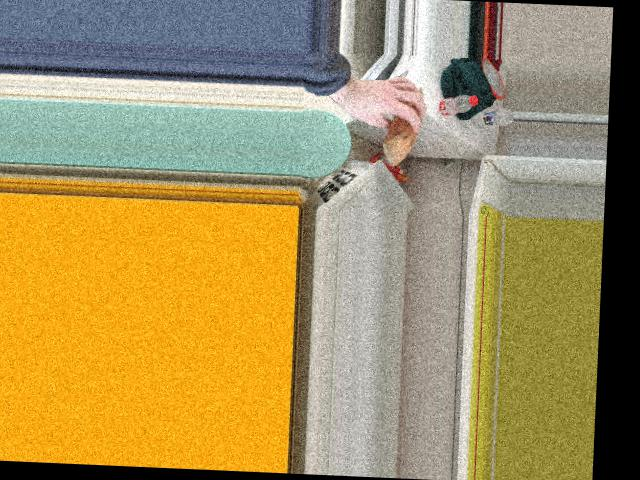sweet_potato: (384, 81, 425, 164)
